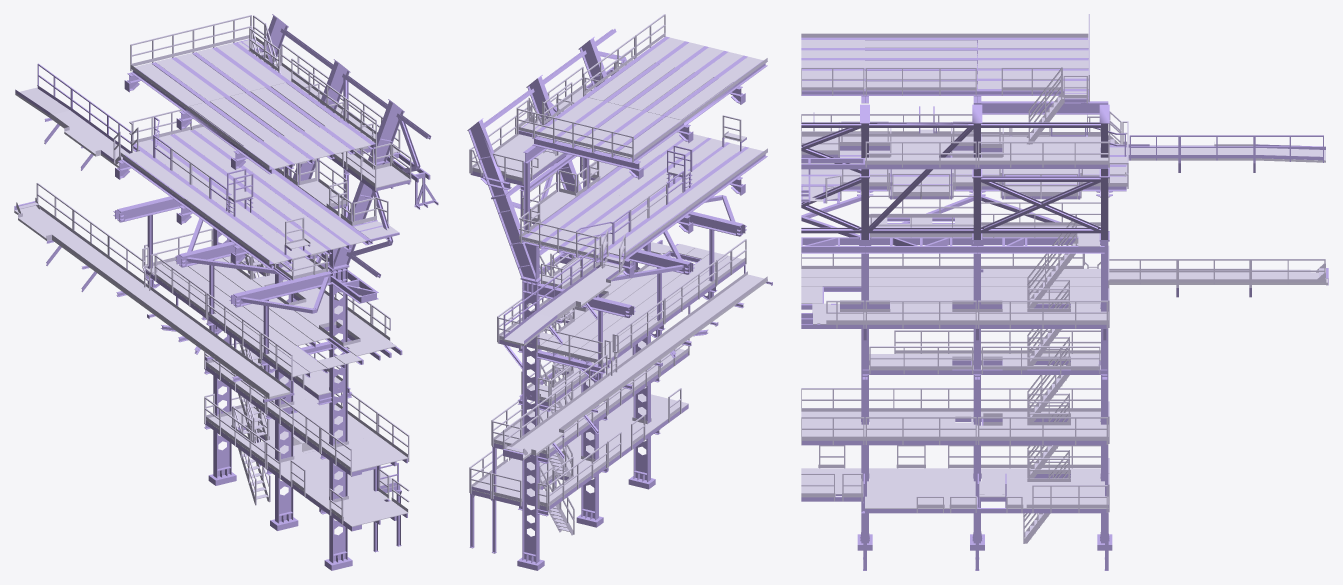
Rendered from HS-USA-cut1.glb.
3 views of the same model, side by side, from view 1: azimuth 30°, elevation 25°; view 2: azimuth 150°, elevation 25°; view 3: azimuth 270°, elevation 25° (orthographic). The views are drawn at different scales.
Parts seen in each view (by area): view 1: _000001E5BC442BF0_IndexedFaceSet, _000001E5BCA52AA0_04_IndexedFaceSet, _000001E5BCA52170_IndexedFaceSet; view 2: _000001E5BC442BF0_IndexedFaceSet, _000001E5BCA52AA0_04_IndexedFaceSet, _000001E5BCA52170_IndexedFaceSet; view 3: _000001E5BC442BF0_IndexedFaceSet, _000001E5BCA52AA0_04_IndexedFaceSet, _000001E5BCA52170_IndexedFaceSet.
Boxes of the visible parts, x1,y1,x2,y2 form: _000001E5BC442BF0_IndexedFaceSet: [14, 40, 410, 526]; _000001E5BCA52AA0_04_IndexedFaceSet: [14, 14, 438, 570]; _000001E5BCA52170_IndexedFaceSet: [16, 15, 411, 524]; _000001E5BC442BF0_IndexedFaceSet: [472, 37, 767, 506]; _000001E5BCA52AA0_04_IndexedFaceSet: [467, 29, 772, 570]; _000001E5BCA52170_IndexedFaceSet: [469, 14, 767, 535]; _000001E5BC442BF0_IndexedFaceSet: [801, 40, 1327, 508]; _000001E5BCA52AA0_04_IndexedFaceSet: [801, 37, 1328, 570]; _000001E5BCA52170_IndexedFaceSet: [801, 14, 1326, 543].
Bounding box in the file's own units: 8.4 × 21.34 × 21.12.
